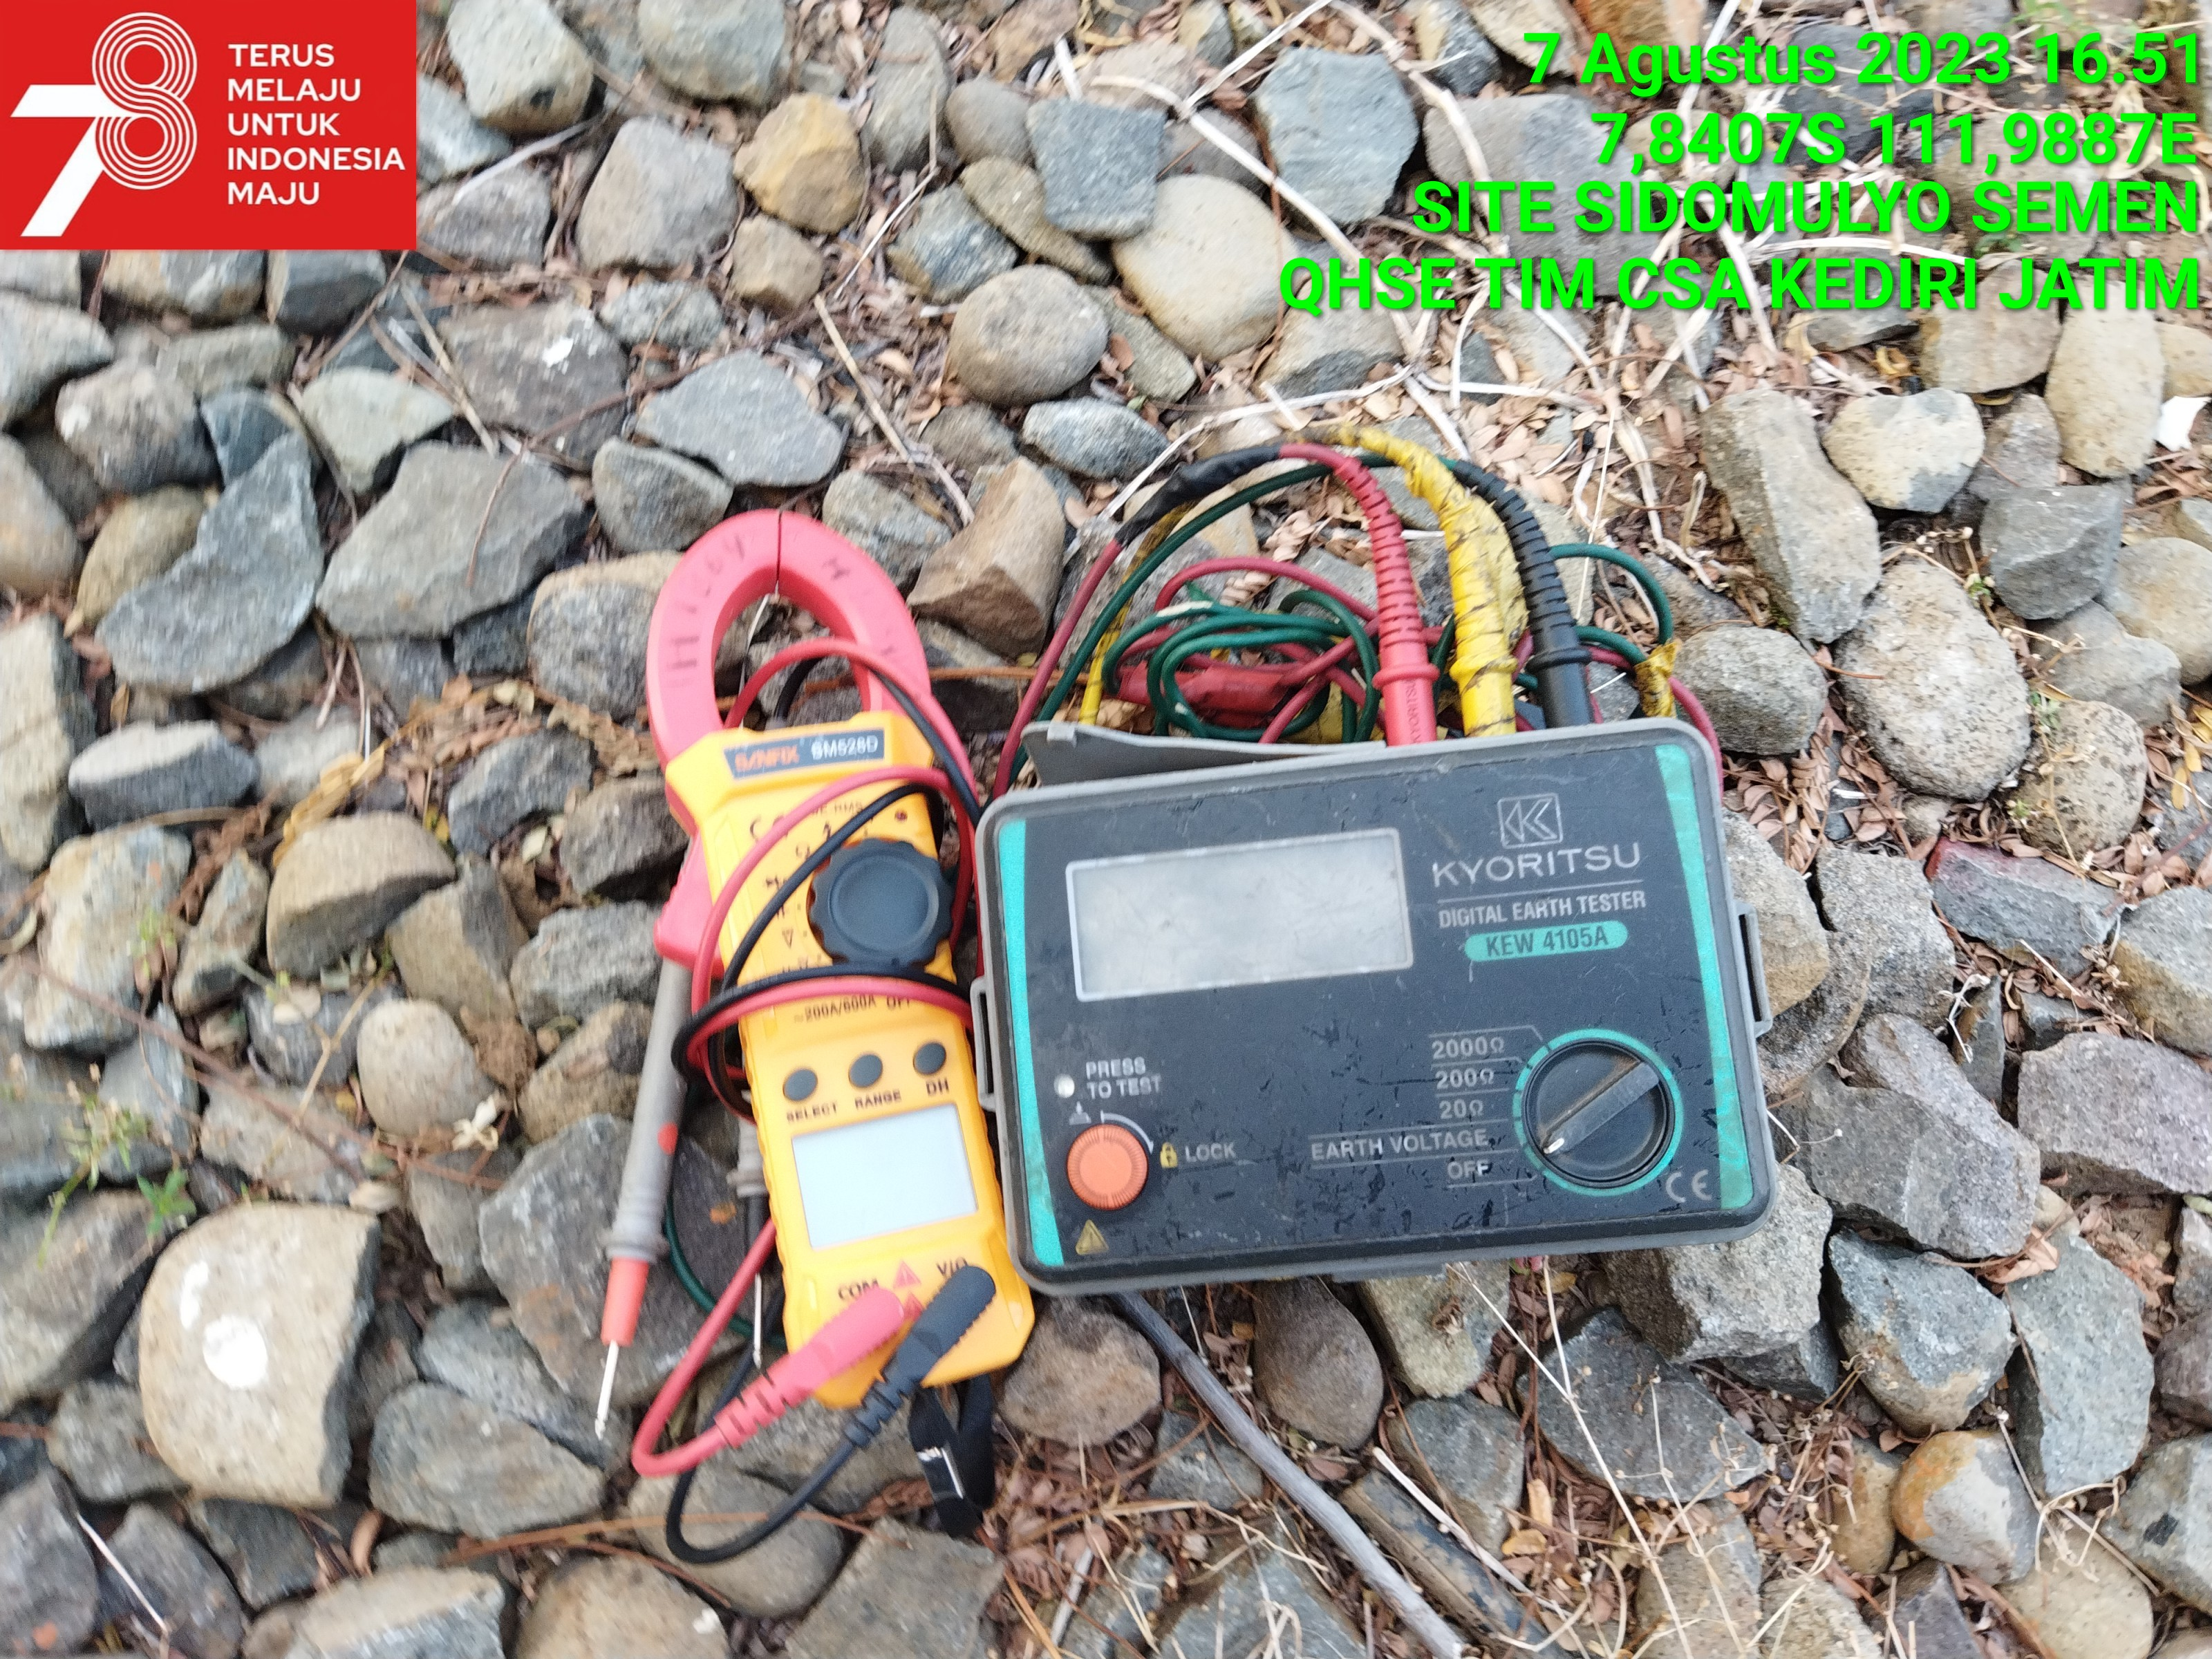EARTH_GROUNDING_TESTER: (979, 727, 1792, 1267)
TANG_AMPERE: (637, 491, 1028, 1455)
